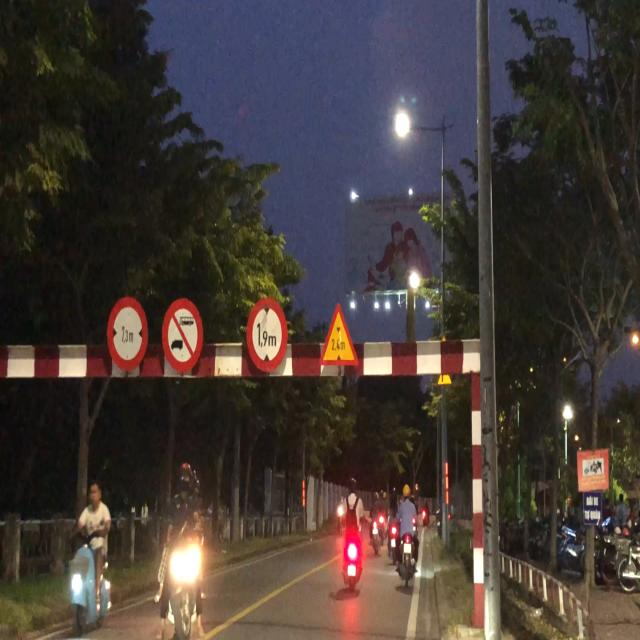Bien bao cam xe oto khach va xe oto tai: (162, 291, 203, 374)
Bien bao chieu cao tinh khong thuc te: (319, 299, 358, 369)
Bien bao han che chieu cao: (243, 293, 293, 371)
